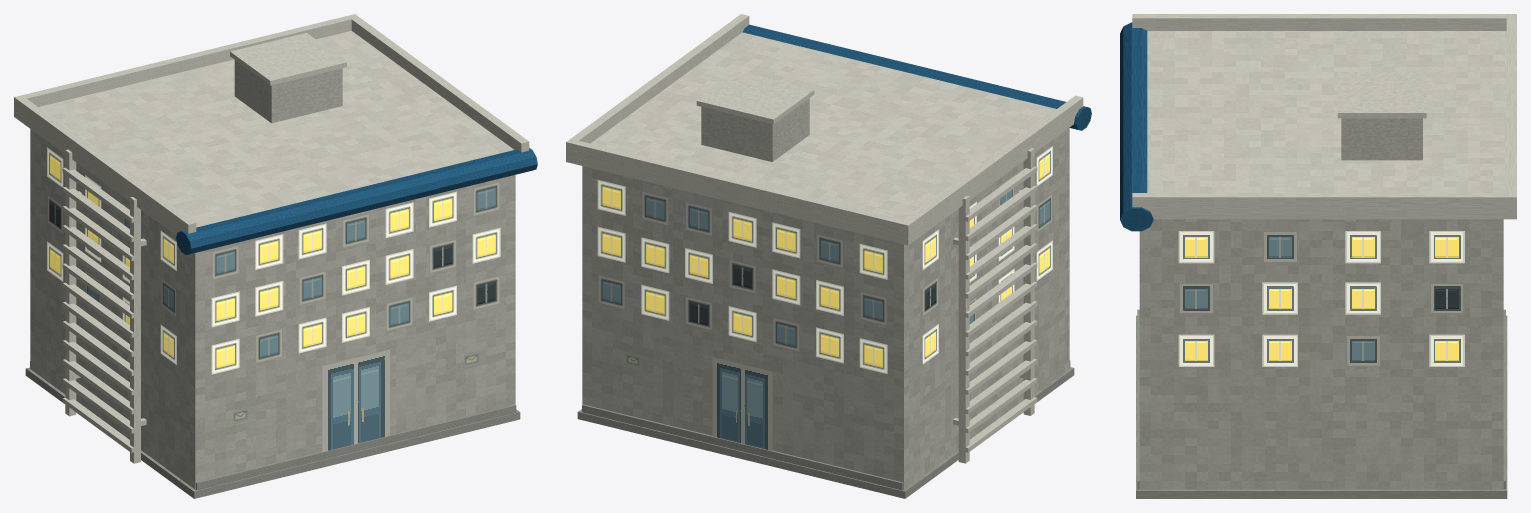
The model's file is Outpost_01.glb.
3 views of the same model, side by side, from view 1: azimuth 30°, elevation 25°; view 2: azimuth 150°, elevation 25°; view 3: azimuth 270°, elevation 25° (orthographic). The views are drawn at different scales.
Visible parts, largest first — view 1: 01_Wall_body, 02_Flat_roof_and_access_block, 04_Windows_front, 07_Left_ladder, 03_Blue_segmented_round_cornice, 05_Double_doors, 04_Windows_left, 06_Envelope_details_and_base; view 2: 01_Wall_body, 02_Flat_roof_and_access_block, 04_Windows_back, 07_Left_ladder, 05_Double_doors, 04_Windows_left, 03_Blue_segmented_round_cornice, 06_Envelope_details_and_base; view 3: 01_Wall_body, 02_Flat_roof_and_access_block, 04_Windows_right, 03_Blue_segmented_round_cornice, 06_Envelope_details_and_base.
Boxes of the visible parts, left/top/right/bottom form: 01_Wall_body: left=25, top=129, right=520, bottom=498; 02_Flat_roof_and_access_block: left=14, top=14, right=529, bottom=235; 04_Windows_front: left=211, top=181, right=500, bottom=374; 07_Left_ladder: left=62, top=149, right=146, bottom=463; 03_Blue_segmented_round_cornice: left=176, top=148, right=537, bottom=254; 05_Double_doors: left=322, top=349, right=389, bottom=451; 04_Windows_left: left=47, top=147, right=176, bottom=365; 06_Envelope_details_and_base: left=30, top=351, right=516, bottom=490; 01_Wall_body: left=577, top=128, right=1074, bottom=498; 02_Flat_roof_and_access_block: left=566, top=14, right=1083, bottom=245; 04_Windows_back: left=597, top=180, right=887, bottom=373; 07_Left_ladder: left=953, top=148, right=1037, bottom=463; 05_Double_doors: left=712, top=357, right=772, bottom=450; 04_Windows_left: left=922, top=146, right=1052, bottom=364; 03_Blue_segmented_round_cornice: left=743, top=24, right=1091, bottom=130; 06_Envelope_details_and_base: left=582, top=353, right=1070, bottom=490; 01_Wall_body: left=1136, top=219, right=1507, bottom=498; 02_Flat_roof_and_access_block: left=1132, top=14, right=1516, bottom=219; 04_Windows_right: left=1178, top=231, right=1464, bottom=366; 03_Blue_segmented_round_cornice: left=1120, top=22, right=1153, bottom=231; 06_Envelope_details_and_base: left=1137, top=309, right=1505, bottom=489.
Size of the model in its own units: 6.11 by 5.18 by 5.45.
Materials: 9 (9 with a texture image).
